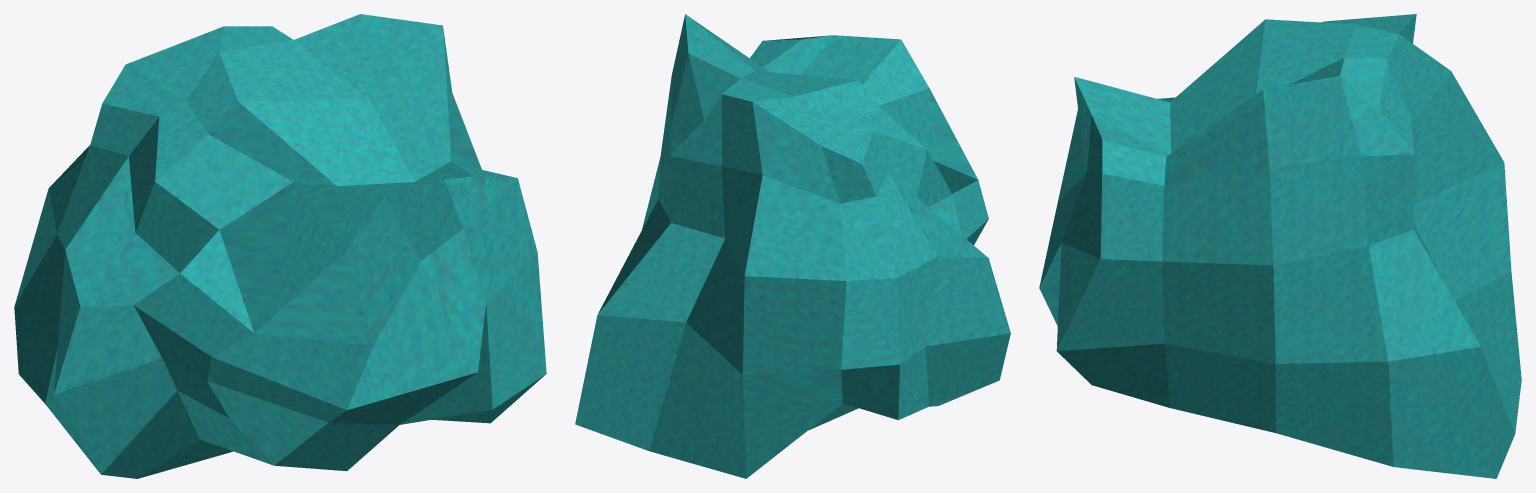
Rendered from Mineral_Placadraco.fbx.
3 views of the same model, side by side, from view 1: azimuth 30°, elevation 25°; view 2: azimuth 150°, elevation 25°; view 3: azimuth 270°, elevation 25° (orthographic). The views are drawn at different scales.
Visible parts, largest first — view 1: Minerais; view 2: Minerais; view 3: Minerais.
Part boxes in pixels (bbox=[...]): Minerais: bbox=[14, 14, 546, 478]; Minerais: bbox=[575, 14, 1010, 478]; Minerais: bbox=[1039, 14, 1521, 478].
Size of the model in its own units: 20.14 by 18.73 by 21.15.
Materials: 1 (1 with a texture image).
